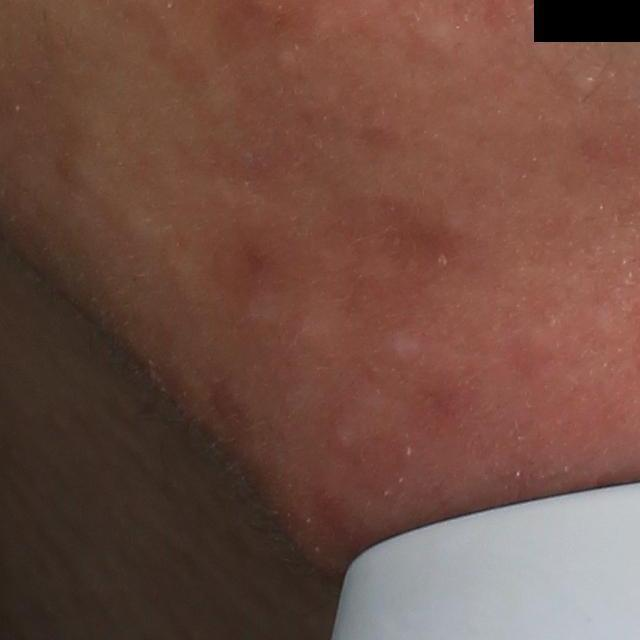comedo: (570, 71, 608, 99)
hypertrophic_scar: (326, 388, 403, 449), (245, 296, 358, 332), (383, 319, 424, 372)
